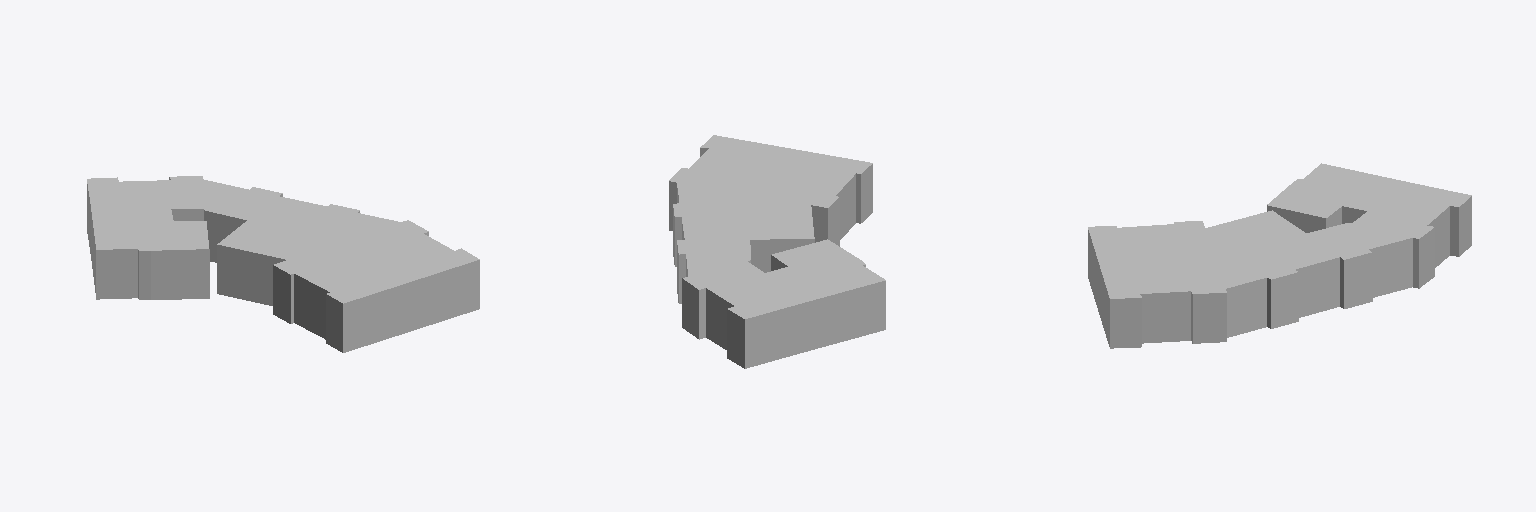
Rendered from multifamily_7.obj.
3 renders of one model, left to right at view 1: azimuth 30°, elevation 25°; view 2: azimuth 150°, elevation 25°; view 3: azimuth 270°, elevation 25°, orthographic.
Parts seen in each view (by area): view 1: object_37, object_1, object_45, object_3, object_24, object_18, object_42, object_22, object_40, object_44, object_20; view 2: object_37, object_1, object_17, object_16, object_13, object_23, object_15, object_11, object_42, object_44; view 3: object_37, object_1, object_48, object_30, object_34, object_26, object_50, object_46, object_32, object_28, object_45, object_11 (+3 smaller).
Boxes of the visible parts, box(x1,y1,x2,y2) form: object_37: box(201, 179, 479, 303); object_1: box(87, 176, 208, 250); object_45: box(343, 260, 479, 352); object_3: box(151, 249, 209, 299); object_24: box(217, 245, 285, 305); object_18: box(96, 249, 137, 299); object_42: box(294, 274, 329, 339); object_22: box(205, 211, 246, 262); object_40: box(273, 265, 290, 323); object_44: box(326, 294, 342, 352); object_20: box(139, 251, 150, 299); object_37: box(669, 135, 872, 276); object_1: box(683, 239, 885, 318); object_17: box(801, 281, 885, 352); object_16: box(745, 304, 800, 368); object_13: box(706, 288, 733, 349); object_23: box(750, 239, 814, 272); object_15: box(727, 309, 744, 368); object_11: box(682, 278, 698, 338); object_42: box(836, 174, 855, 239); object_44: box(861, 164, 872, 222); object_37: box(1088, 210, 1412, 298); object_1: box(1267, 163, 1471, 238); object_48: box(1140, 291, 1190, 343); object_30: box(1296, 257, 1339, 317); object_34: box(1369, 238, 1412, 297); object_26: box(1226, 278, 1266, 337); object_50: box(1193, 293, 1226, 343); object_46: box(1110, 298, 1141, 348); object_32: box(1344, 252, 1372, 308); object_28: box(1271, 272, 1298, 328); object_45: box(1088, 230, 1109, 346); object_11: box(1419, 227, 1434, 288).
Bounding box in the file's own units: 141 × 24 × 169.